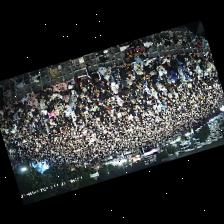person: (84, 60, 101, 83), (154, 57, 167, 78), (65, 96, 78, 112), (75, 74, 88, 90), (150, 69, 161, 86), (176, 58, 188, 73), (53, 81, 66, 94), (43, 86, 56, 99), (119, 63, 132, 76), (99, 65, 111, 78), (120, 72, 133, 83), (143, 58, 154, 71), (144, 71, 152, 88), (133, 61, 143, 74), (161, 52, 170, 66), (124, 86, 134, 98), (110, 78, 118, 93), (117, 84, 125, 99), (167, 71, 175, 86), (135, 70, 145, 82), (86, 81, 95, 94), (121, 77, 131, 88), (51, 98, 61, 109), (69, 88, 78, 100), (111, 64, 118, 79), (30, 97, 38, 110), (96, 80, 104, 93), (13, 100, 22, 111), (22, 94, 29, 108), (48, 109, 56, 121), (178, 65, 185, 78), (102, 75, 111, 85), (98, 93, 107, 103), (51, 92, 60, 102), (60, 89, 69, 99), (177, 52, 185, 63), (6, 101, 14, 112), (66, 79, 75, 88), (40, 98, 46, 111), (81, 85, 88, 96), (116, 94, 123, 105), (196, 64, 202, 76), (57, 103, 63, 114), (94, 85, 99, 98), (116, 70, 121, 83), (199, 51, 204, 60), (45, 98, 51, 104), (131, 39, 138, 43)
